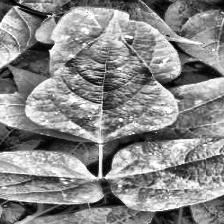Bean Rust: (42, 53, 180, 142), (61, 4, 167, 75), (0, 149, 104, 206), (161, 67, 224, 140)
